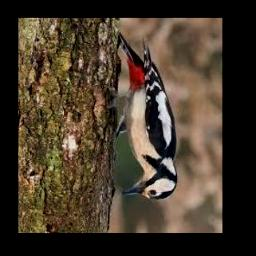Woodpecker: (102, 34, 177, 200)
